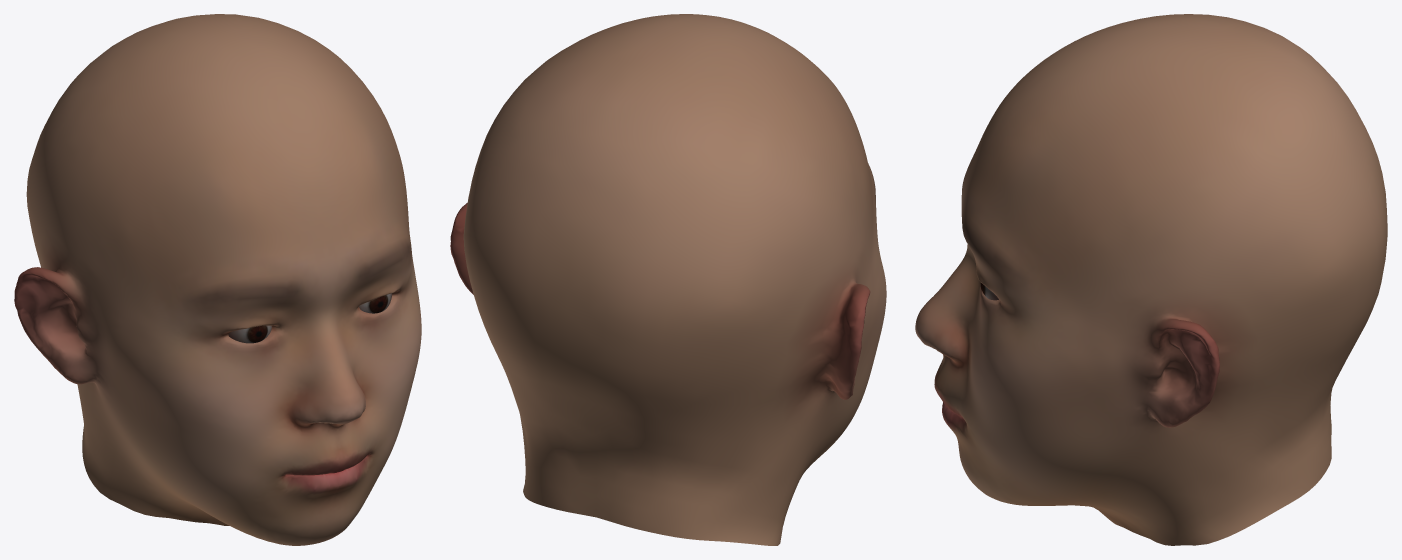
Rendered from faceverse-neutral.glb.
3 views of the same model, side by side, from view 1: azimuth 30°, elevation 25°; view 2: azimuth 150°, elevation 25°; view 3: azimuth 270°, elevation 25° (orthographic). The views are drawn at different scales.
Visible parts, largest first — view 1: FaceVerseNeutralHead; view 2: FaceVerseNeutralHead; view 3: FaceVerseNeutralHead.
Boxes of the visible parts, left/top/right/bottom form: FaceVerseNeutralHead: left=14, top=14, right=421, bottom=545; FaceVerseNeutralHead: left=450, top=14, right=886, bottom=545; FaceVerseNeutralHead: left=915, top=14, right=1387, bottom=545.
Bounding box in the file's own units: 0.2211 × 0.2543 × 0.2276.
